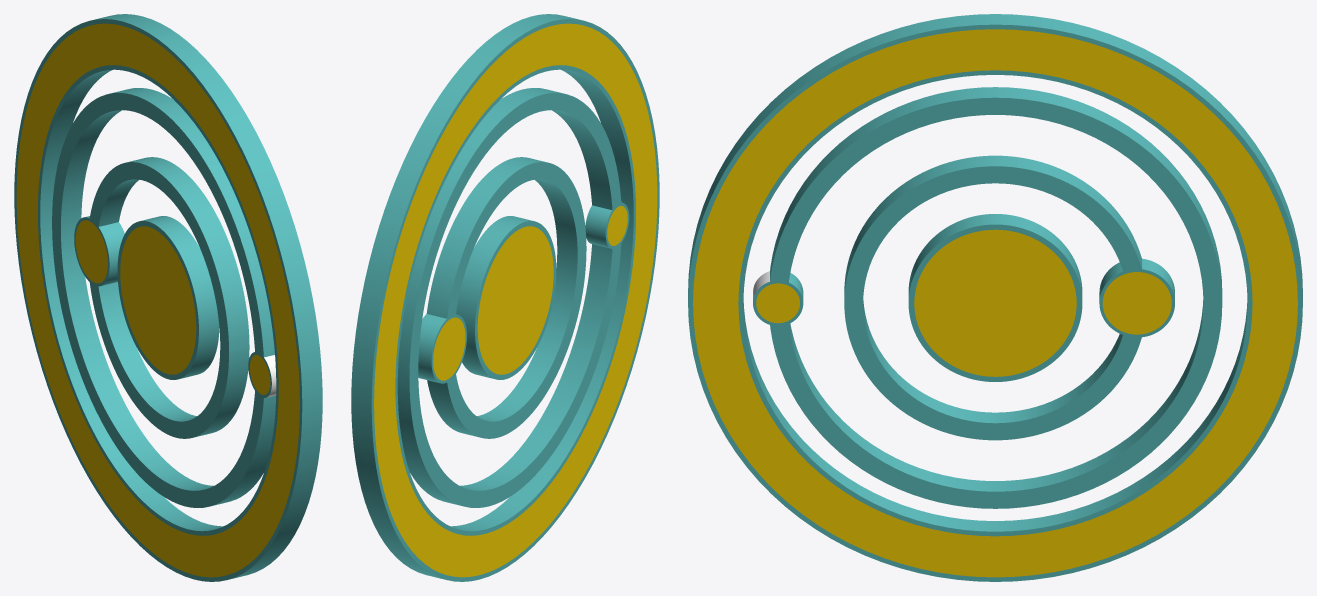
The model's file is collectable_expert.dae.
3 views of the same model, side by side, from view 1: azimuth 30°, elevation 25°; view 2: azimuth 150°, elevation 25°; view 3: azimuth 270°, elevation 25° (orthographic). The views are drawn at different scales.
Visible parts, largest first — view 1: Component_5 (×10); view 2: Component_5 (×10); view 3: Component_5 (×10).
Part boxes in pixels (left/top/right/bottom): Component_5 (×10): left=14, top=14, right=322, bottom=581; Component_5 (×10): left=351, top=14, right=659, bottom=581; Component_5 (×10): left=688, top=14, right=1302, bottom=581.
Size of the model in its own units: 12.2 by 298 by 298.
